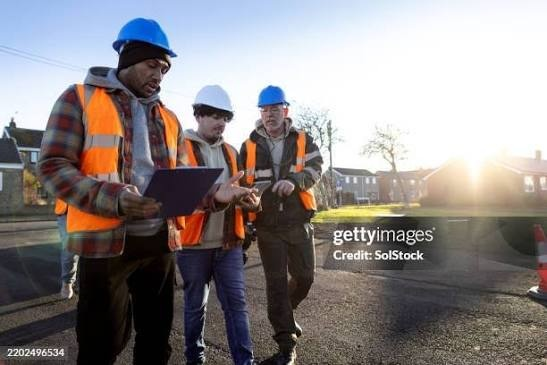hardhat: (107, 12, 185, 56), (191, 79, 235, 116), (252, 81, 302, 108)
person: (33, 13, 176, 362), (240, 77, 325, 338), (178, 82, 256, 342)
safety_vest: (64, 83, 182, 240), (167, 129, 248, 249), (238, 131, 330, 210)
